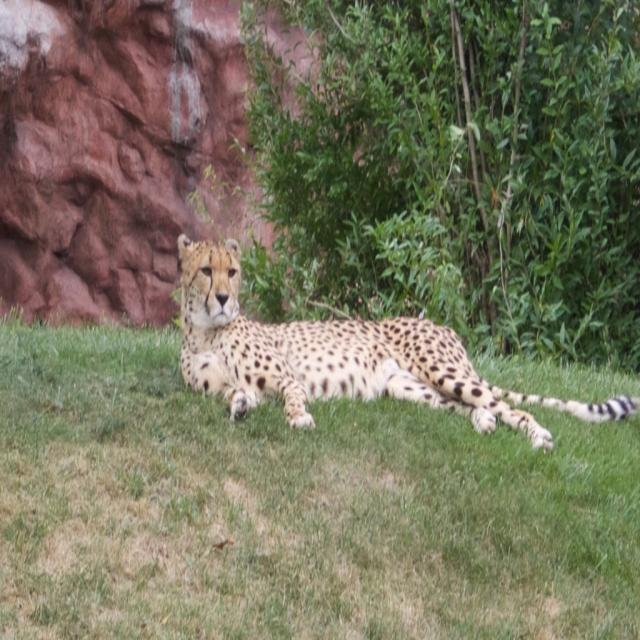Cheetah: (168, 216, 640, 477)
